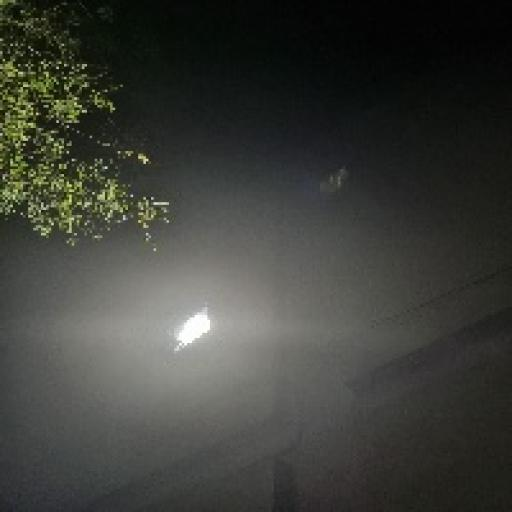Working: (155, 304, 227, 363)
